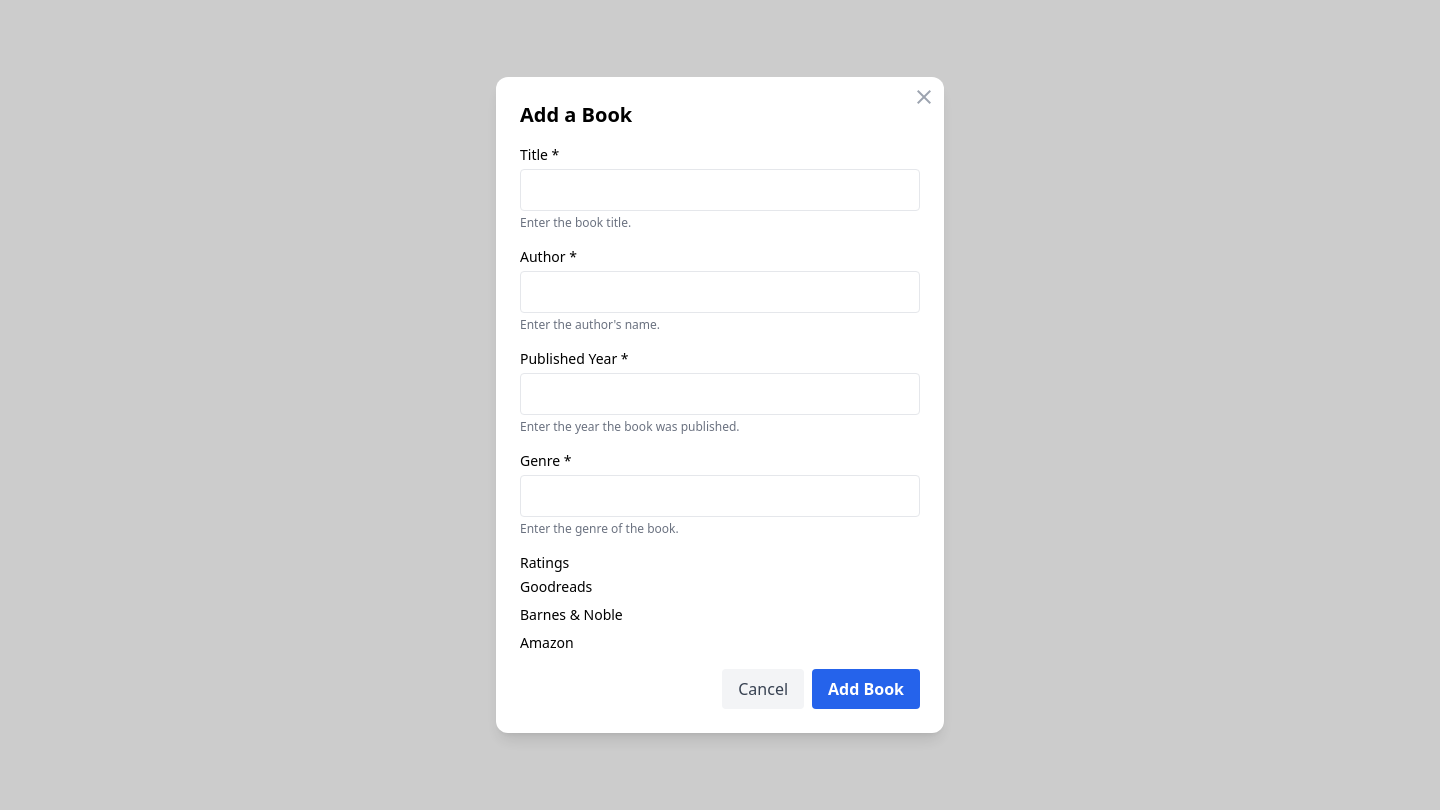
Scenario: AddBookModal.vue › shows error message on failed submission
Type "Test Book" into the field with id "title" at (720, 190), box [520,169,920,211]
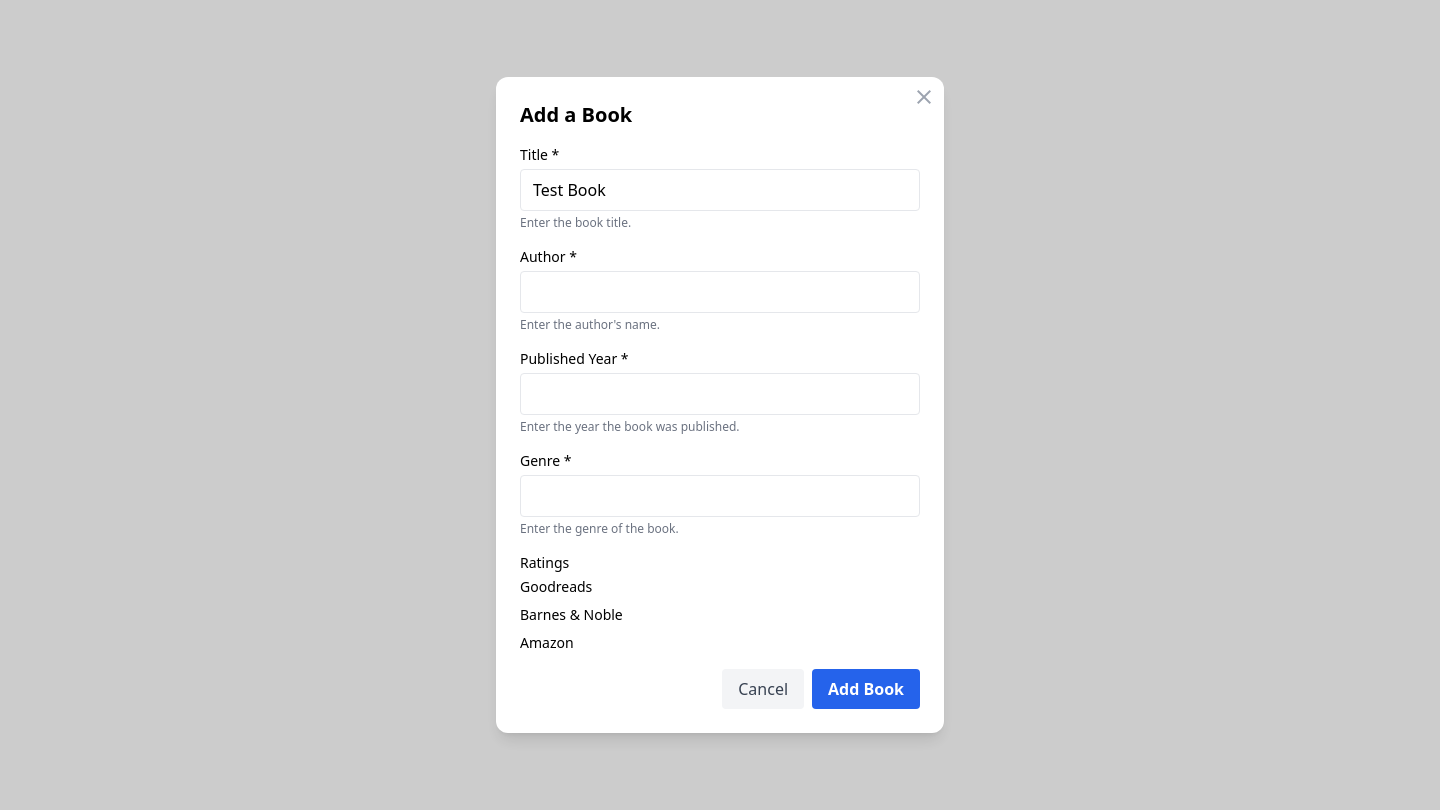
Type "Test Author" into the field with id "author" at (720, 292), box [520,271,920,313]
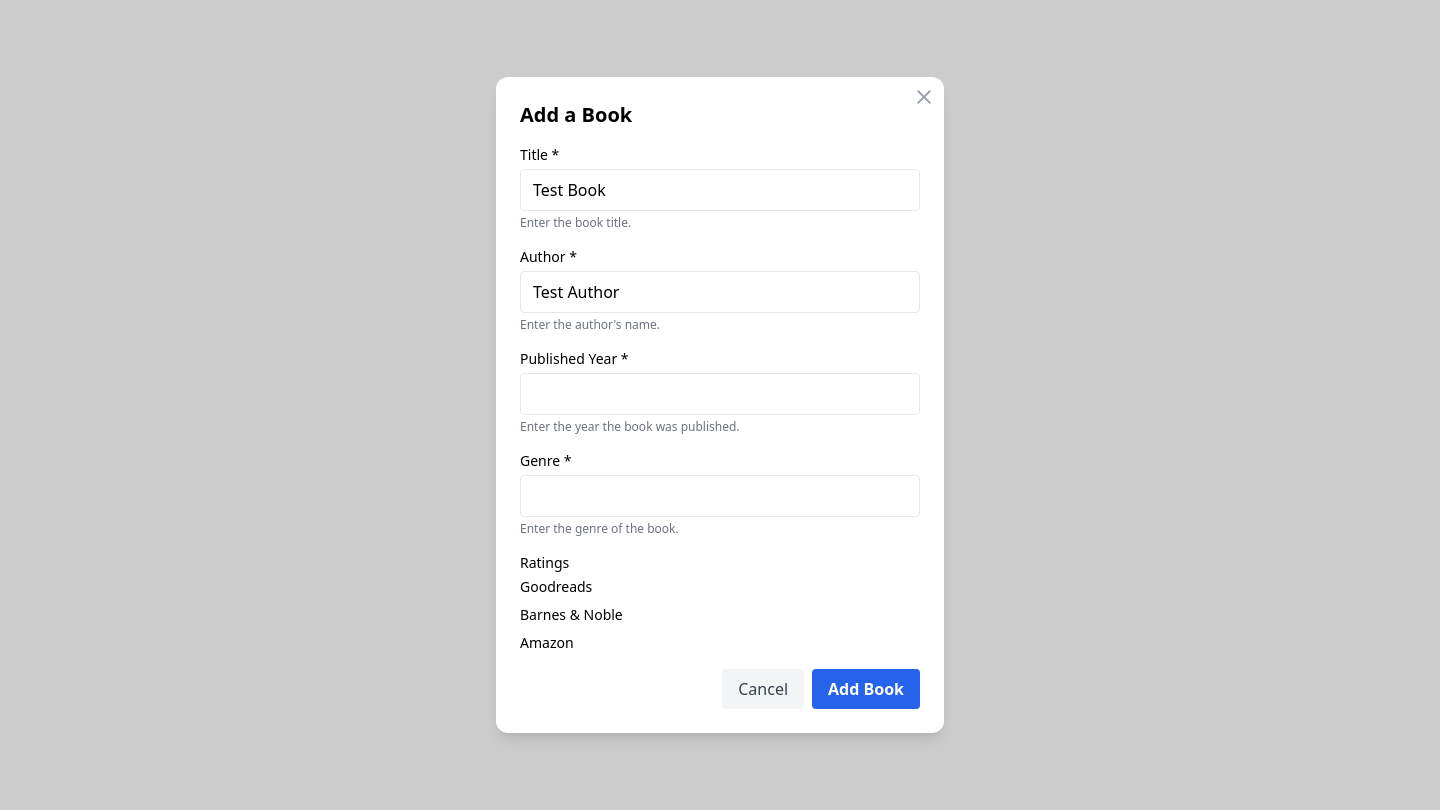
Type "2025" into the number field labelled "Published Year *" at (720, 394), box [520,373,920,415]
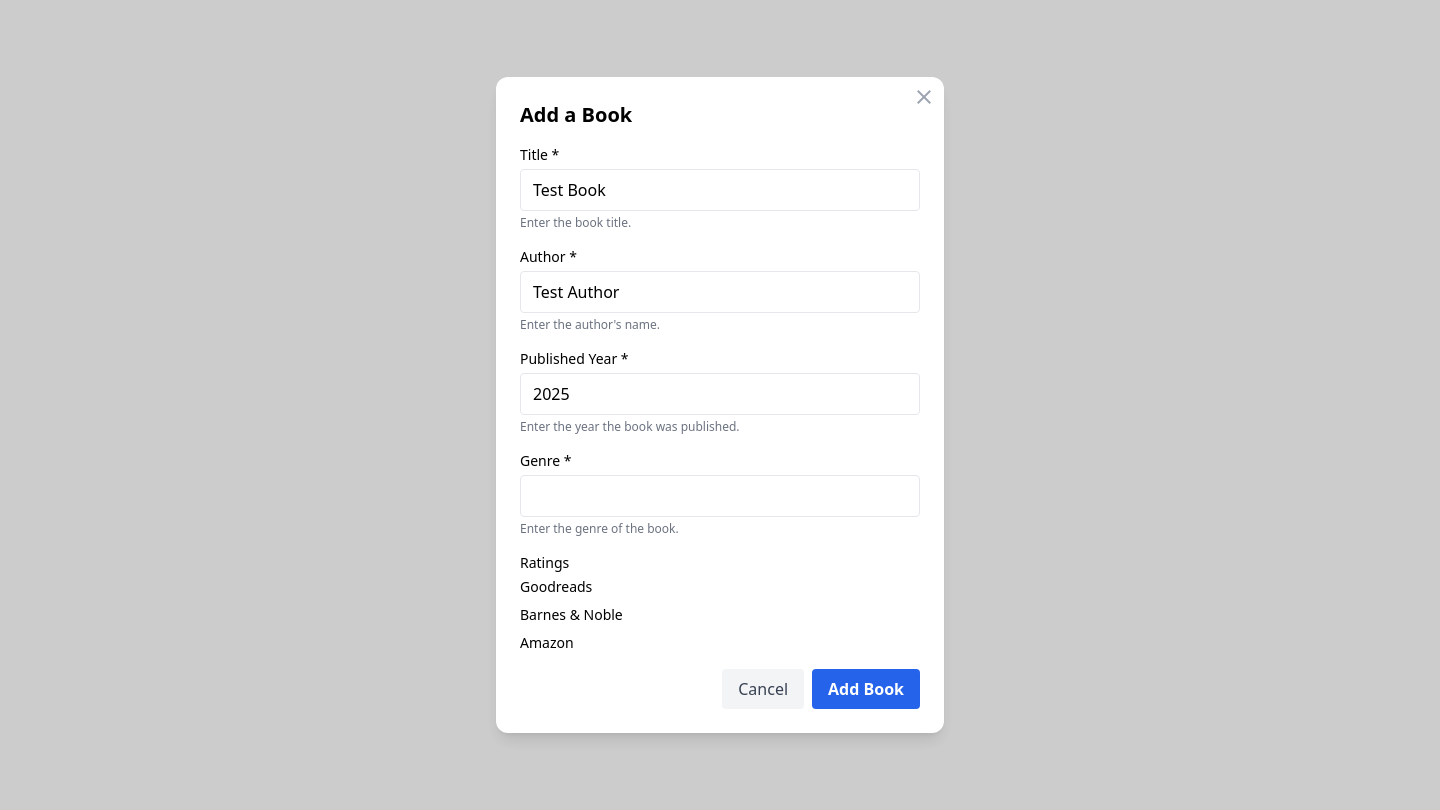
Type "Fiction" into the field with id "genre" at (720, 496), box [520,475,920,517]
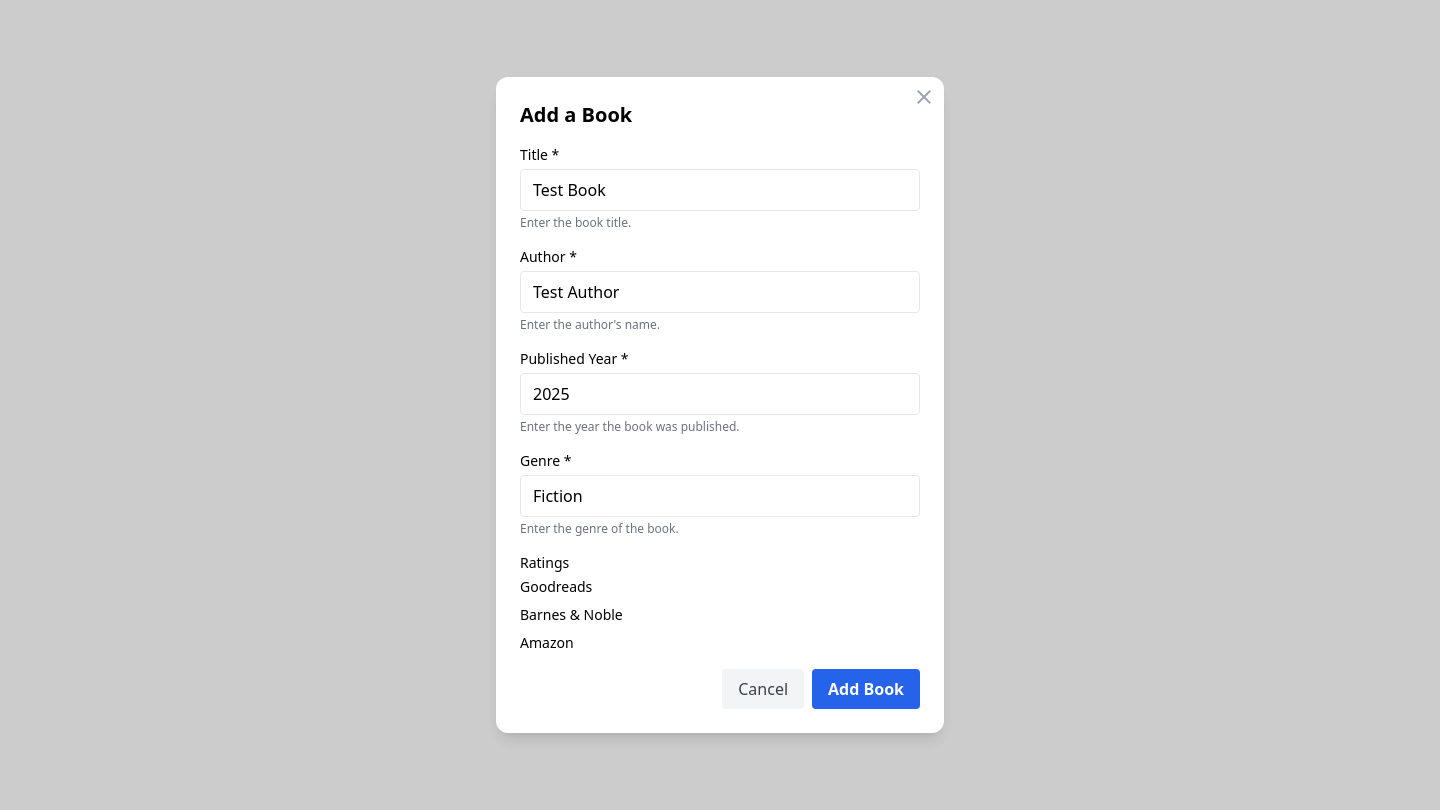
Submit the form, box [520,145,920,709]
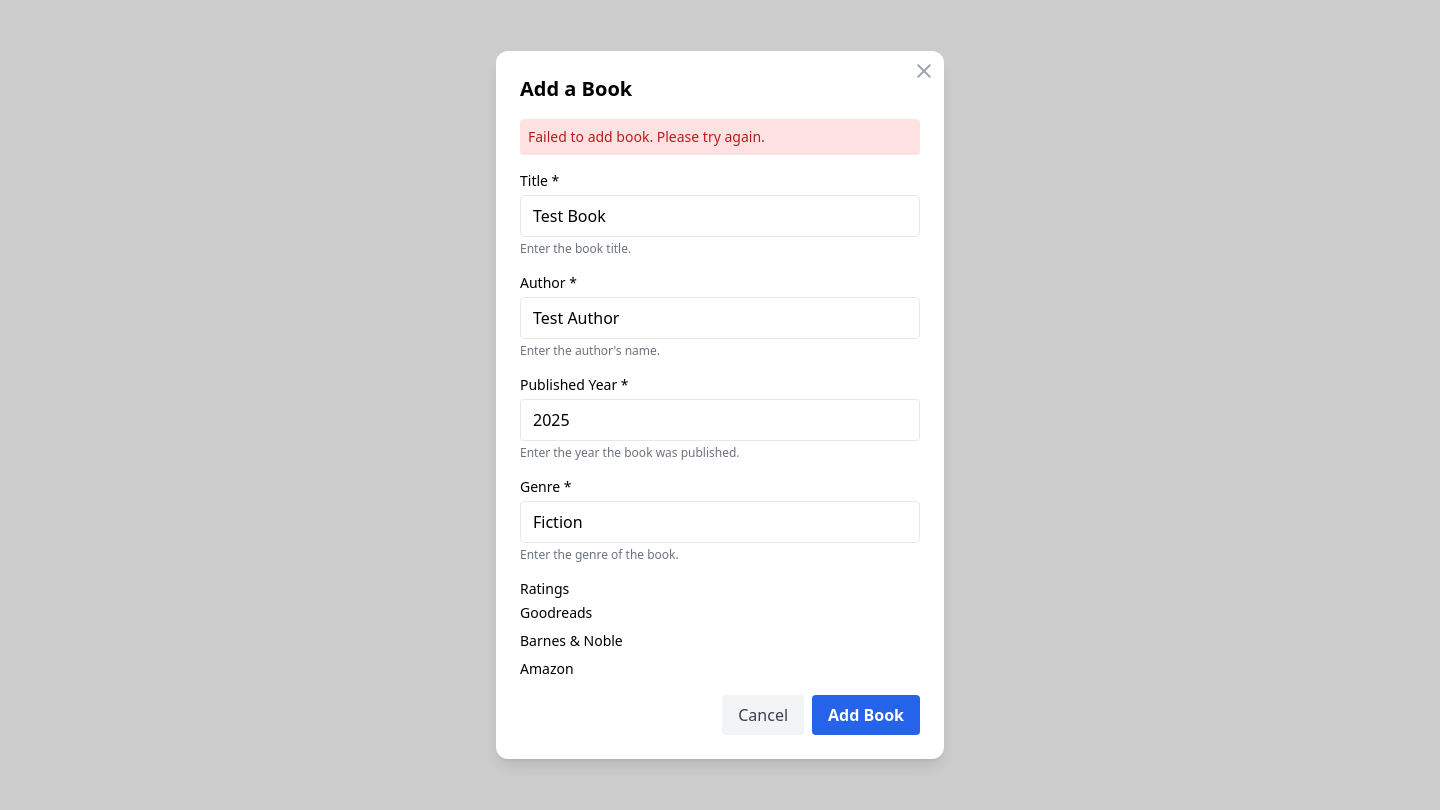
Result: the text "Failed to add book" is shown at [528,127,765,146]
